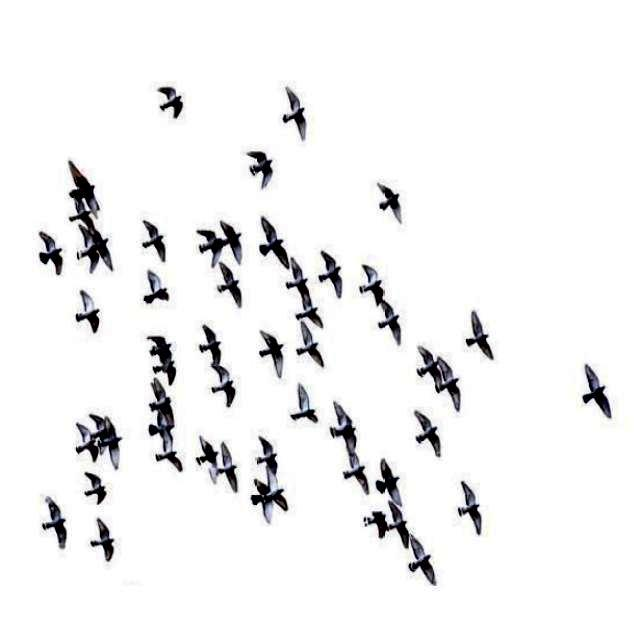bird: (276, 86, 316, 140), (373, 172, 412, 224), (580, 363, 616, 416), (85, 512, 118, 562), (466, 312, 501, 358), (194, 320, 229, 365), (38, 498, 68, 550), (408, 538, 438, 590), (330, 402, 360, 453), (412, 413, 444, 459), (70, 163, 102, 209), (259, 218, 289, 267), (242, 150, 278, 190), (457, 482, 484, 534), (258, 329, 287, 377), (35, 232, 65, 278), (375, 460, 407, 501), (216, 266, 247, 308), (192, 228, 225, 266), (104, 411, 126, 468), (297, 324, 323, 372), (74, 290, 102, 334), (288, 386, 320, 424), (210, 367, 240, 407), (154, 87, 190, 119), (223, 216, 248, 262), (417, 348, 441, 395), (387, 500, 409, 550), (295, 297, 329, 329), (218, 440, 240, 489), (147, 382, 175, 420), (254, 438, 286, 471), (440, 360, 461, 410), (285, 260, 314, 296), (360, 262, 384, 304), (342, 455, 369, 491), (140, 220, 166, 257), (142, 272, 170, 304), (249, 482, 270, 523), (321, 252, 346, 286), (267, 476, 292, 510), (85, 472, 110, 505), (379, 305, 401, 342), (363, 506, 388, 538), (76, 231, 96, 270), (156, 438, 182, 468), (77, 424, 96, 464), (148, 416, 180, 439), (196, 438, 220, 468), (149, 337, 172, 367), (65, 202, 93, 224), (96, 228, 112, 266), (92, 412, 106, 439), (156, 362, 175, 380)
